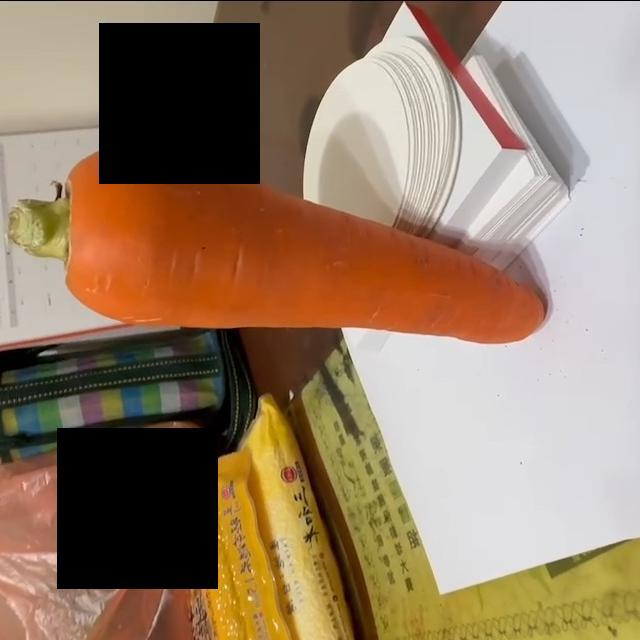carrot: (10, 142, 550, 346)
